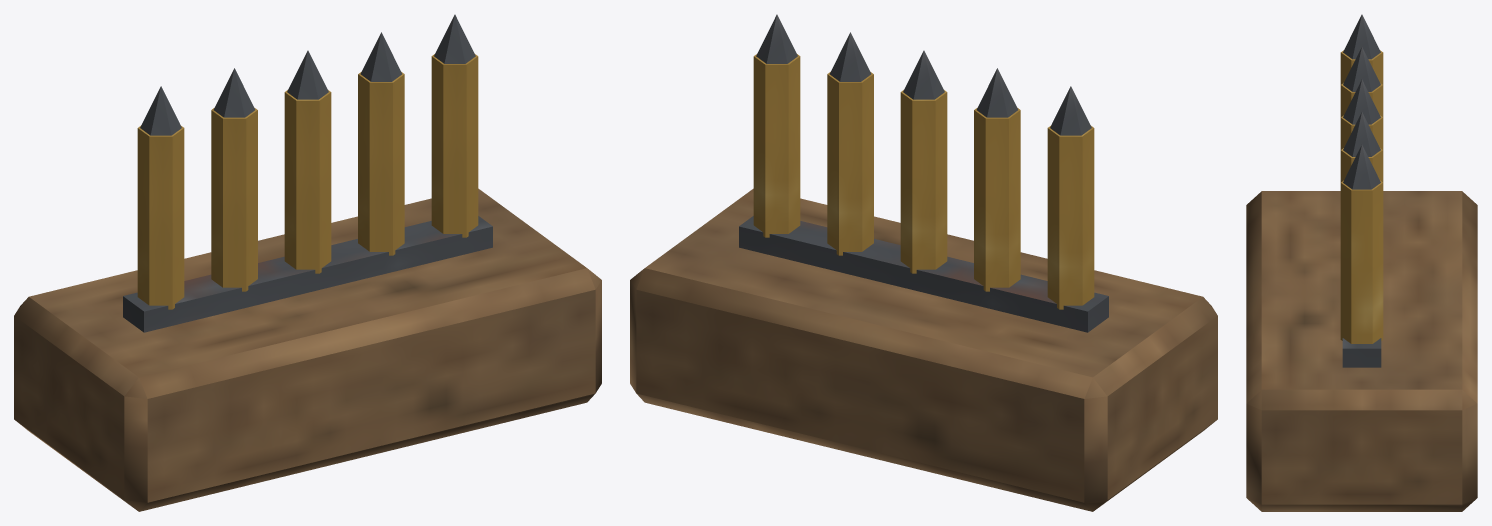
Rendered from SM_Ammo_Rifle.fbx.
3 renders of one model, left to right at view 1: azimuth 30°, elevation 25°; view 2: azimuth 150°, elevation 25°; view 3: azimuth 270°, elevation 25°, orthographic. The views are drawn at different scales.
Parts seen in each view (by area): view 1: SM_Ammo_Rifle; view 2: SM_Ammo_Rifle; view 3: SM_Ammo_Rifle.
Part boxes in pixels (x1,y1,x2,y2): SM_Ammo_Rifle: (14,14,601,511); SM_Ammo_Rifle: (630,14,1217,511); SM_Ammo_Rifle: (1246,14,1477,511).
Size of the model in its own units: 1.3 by 0.955 by 0.6.
Materials: 1 (1 with a texture image).
